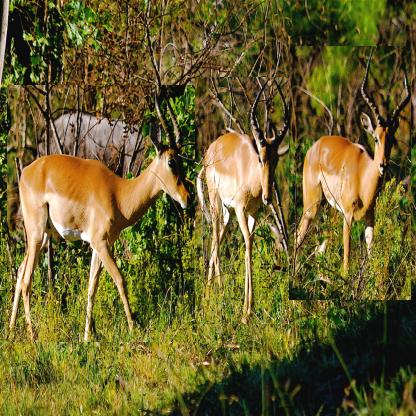Deer: (7, 85, 200, 342), (289, 46, 412, 300), (196, 77, 290, 324)
